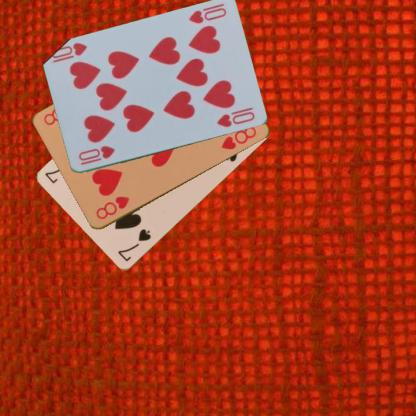10h: (186, 5, 228, 26), (76, 144, 116, 166)
7s: (115, 226, 153, 264)
8h: (93, 193, 131, 222)
